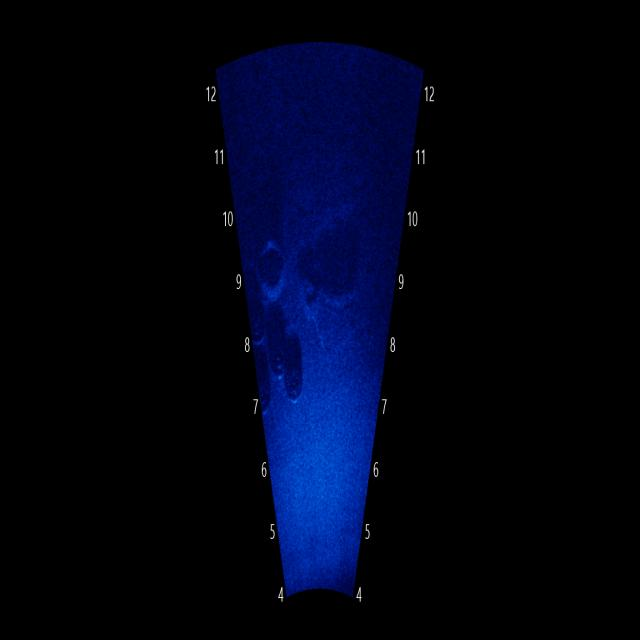circle: (251, 227, 289, 308), (283, 356, 307, 411), (268, 337, 292, 386)
